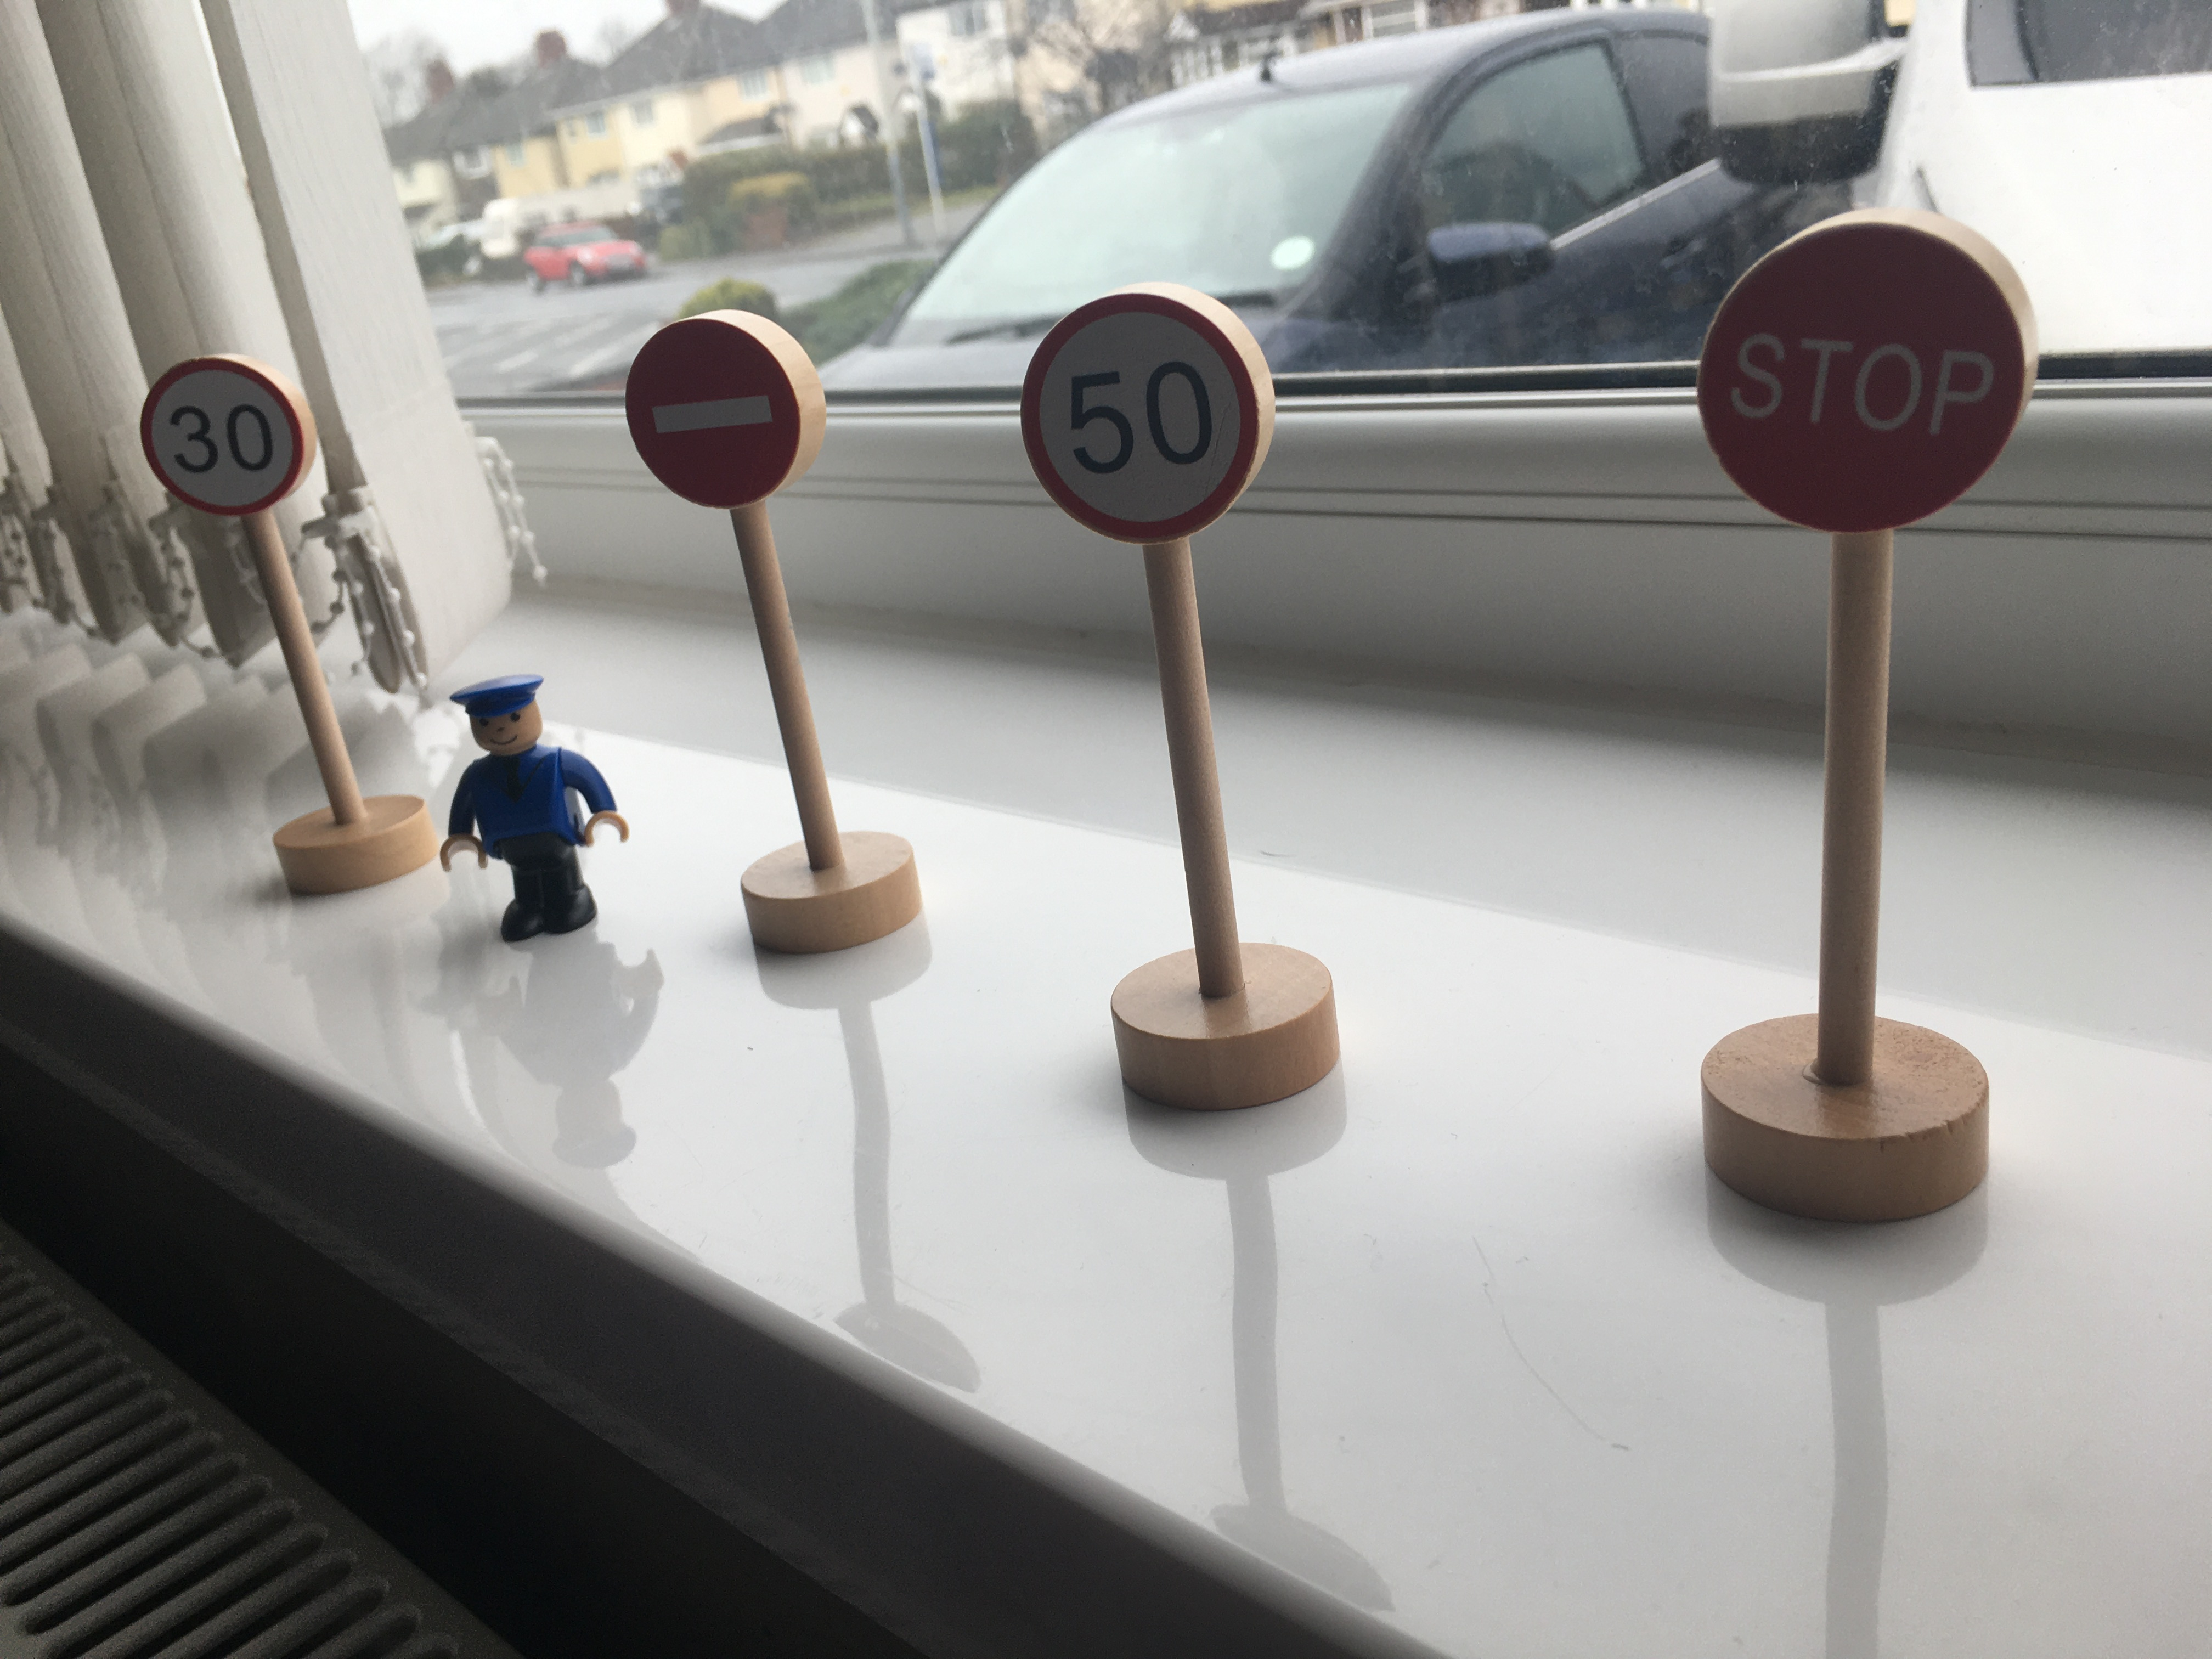Traffic_Sign_30: (126, 356, 335, 519)
Traffic_Sign_50: (998, 296, 1302, 545)
Traffic_Sign_No_Entry: (606, 312, 846, 519)
Traffic_Sign_Stop: (1657, 214, 2061, 540)
person: (414, 660, 639, 953)
